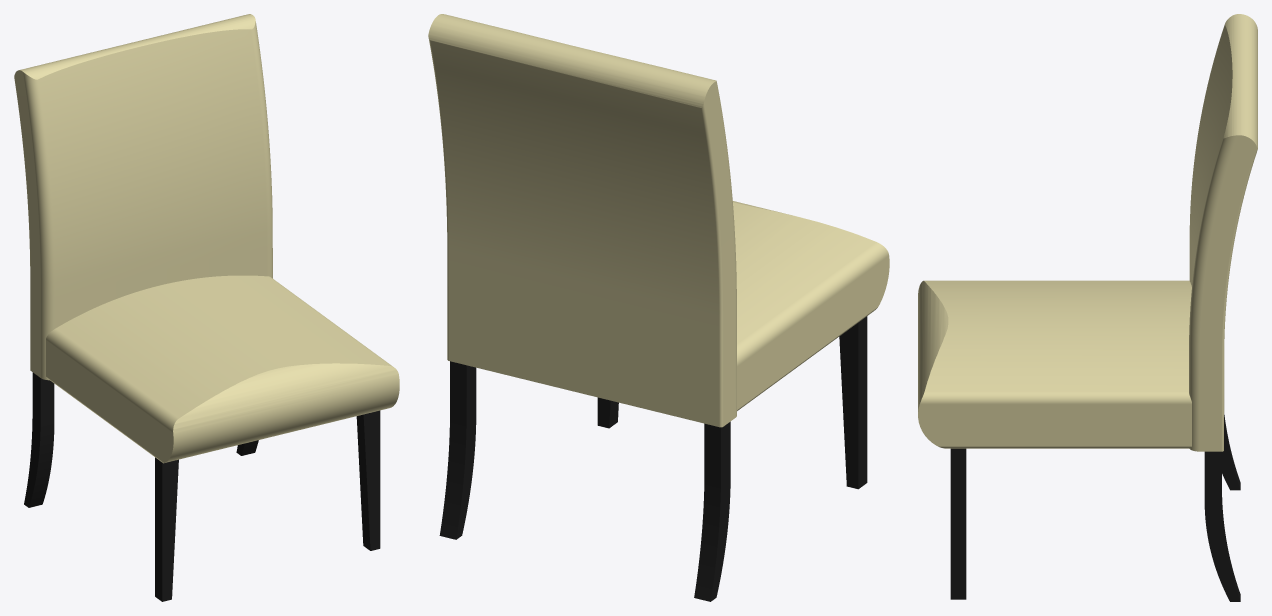
File: HENRIKSDAL_Chair.obj
3 renders of one model, left to right at view 1: azimuth 30°, elevation 25°; view 2: azimuth 150°, elevation 25°; view 3: azimuth 270°, elevation 25°, orthographic. The views are drawn at different scales.
Visible parts, largest first — view 1: Loft001, Line003, Line014, Line013, Line017; view 2: Loft001, Line003, Line017, Line018, Line013; view 3: Line003, Loft001, Line018, Line014, Line017.
Boxes of the visible parts, x1=… form: Loft001: x1=14, y1=14, x2=272, y2=380; Line003: x1=46, y1=275, x2=399, y2=463; Line014: x1=356, y1=410, x2=380, y2=550; Line013: x1=155, y1=457, x2=178, y2=601; Line017: x1=24, y1=372, x2=54, y2=507; Loft001: x1=428, y1=14, x2=736, y2=427; Line003: x1=732, y1=201, x2=889, y2=410; Line017: x1=694, y1=421, x2=730, y2=601; Line018: x1=439, y1=361, x2=476, y2=539; Line013: x1=839, y1=316, x2=867, y2=489; Line003: x1=918, y1=280, x2=1191, y2=448; Loft001: x1=1189, y1=14, x2=1257, y2=451; Line018: x1=1204, y1=451, x2=1240, y2=601; Line014: x1=950, y1=448, x2=966, y2=599; Line017: x1=1222, y1=414, x2=1240, y2=490.
Bounding box in the file's own units: 541 × 972 × 640.
